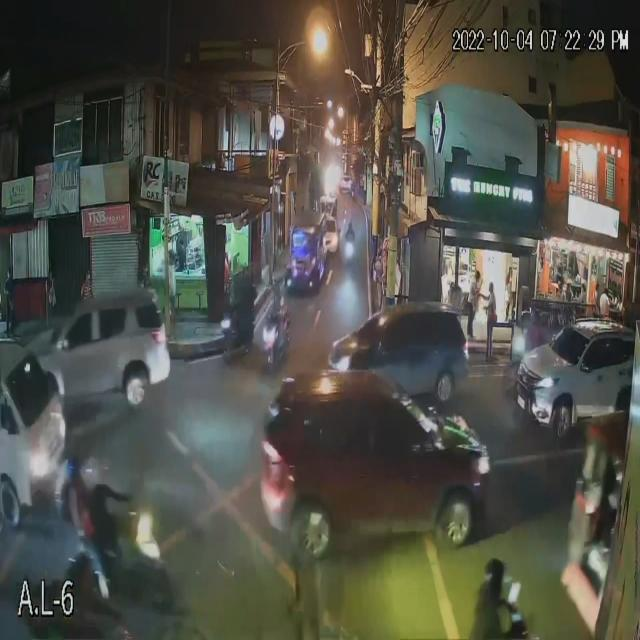Full-Faced: (64, 453, 87, 493)
Half-Faced: (82, 458, 107, 491)
